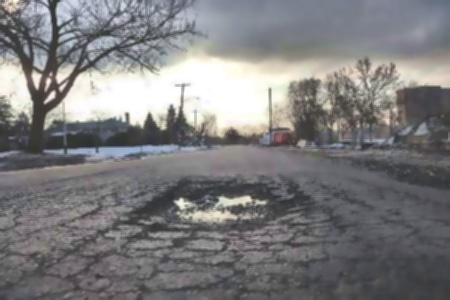pothole: (133, 179, 293, 232)
